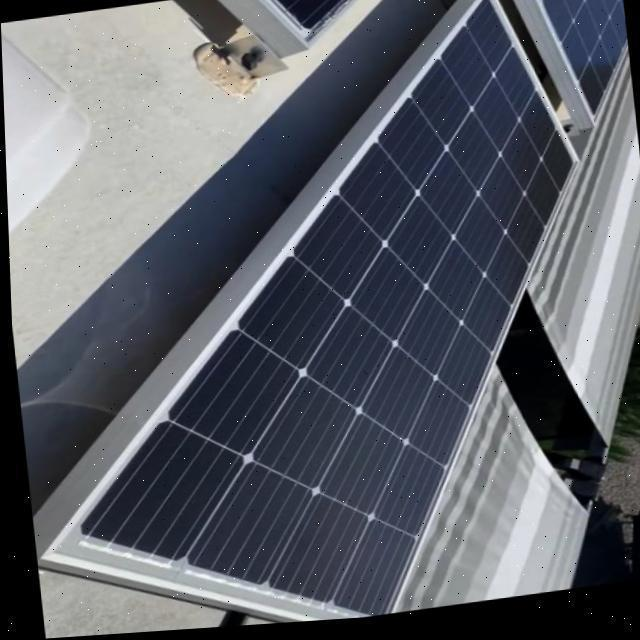Normal Solar Panel: (0, 0, 622, 640), (510, 0, 635, 141), (237, 0, 402, 58)
